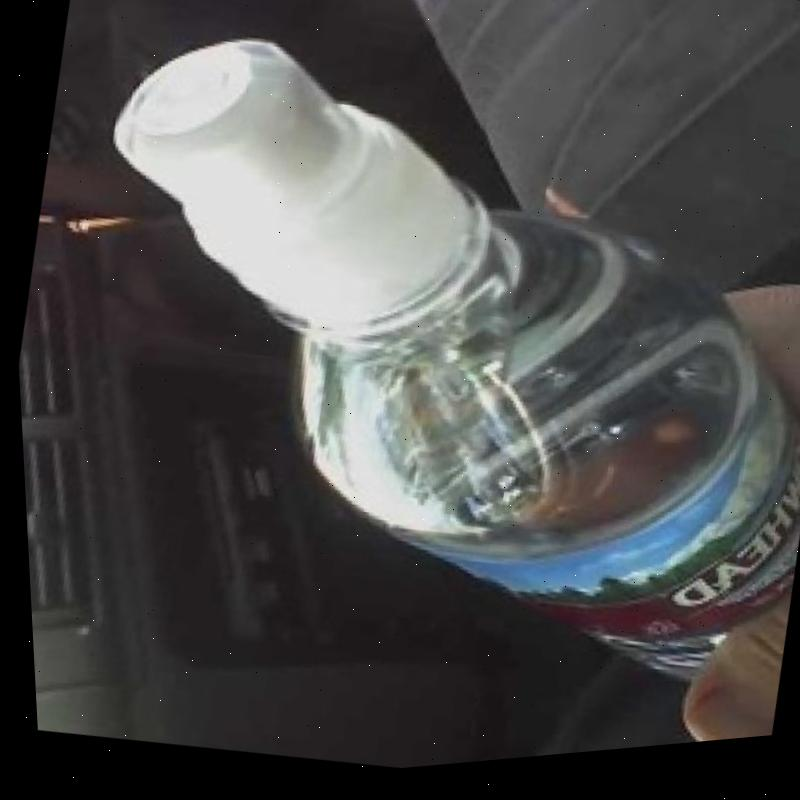botella: (13, 0, 800, 755)
